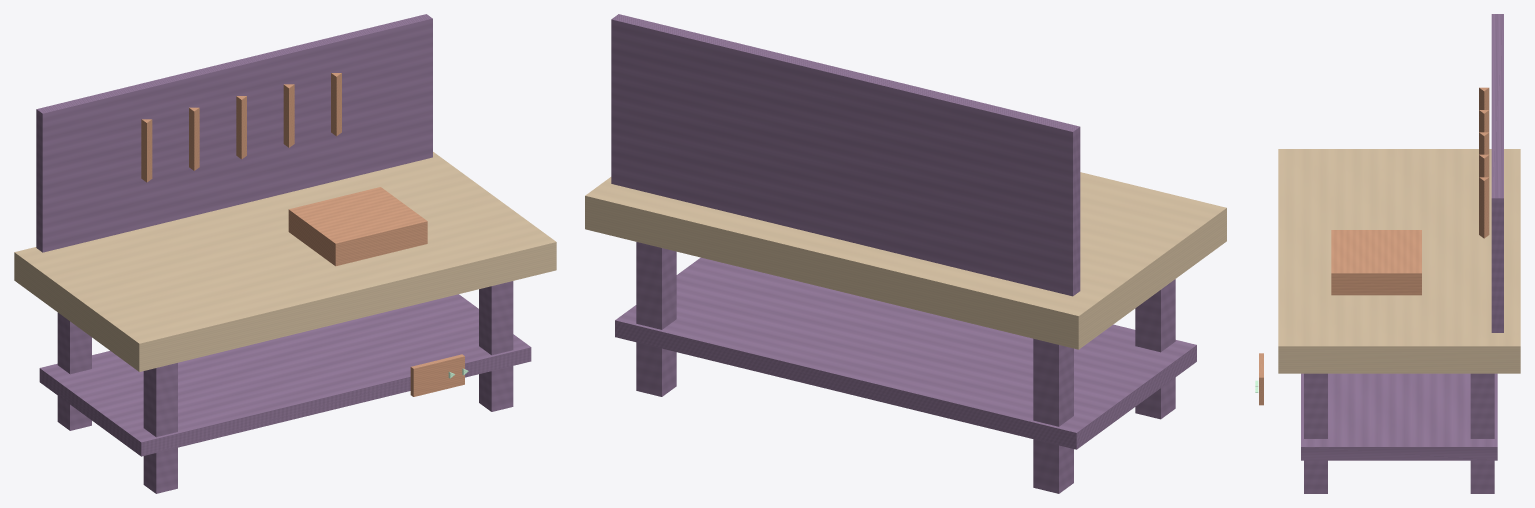
Rendered from atlas100-s087-a06.lod1.glb.
3 renders of one model, left to right at view 1: azimuth 30°, elevation 25°; view 2: azimuth 150°, elevation 25°; view 3: azimuth 270°, elevation 25°, orthographic. The views are drawn at different scales.
Visible parts, largest first — view 1: atlas100-s087-a06:part-004, atlas100-s087-a06:part-006, atlas100-s087-a06:part-005, atlas100-s087-a06:part-012, atlas100-s087-a06:part-003, atlas100-s087-a06:part-001, atlas100-s087-a06:part-000, atlas100-s087-a06:part-013, atlas100-s087-a06:part-010, atlas100-s087-a06:part-007, atlas100-s087-a06:part-008, atlas100-s087-a06:part-009 (+1 smaller); view 2: atlas100-s087-a06:part-006, atlas100-s087-a06:part-005, atlas100-s087-a06:part-004, atlas100-s087-a06:part-000, atlas100-s087-a06:part-002, atlas100-s087-a06:part-001; view 3: atlas100-s087-a06:part-004, atlas100-s087-a06:part-005, atlas100-s087-a06:part-012, atlas100-s087-a06:part-006, atlas100-s087-a06:part-002, atlas100-s087-a06:part-003, atlas100-s087-a06:part-011.
Part boxes in pixels (left/top/right/bottom): atlas100-s087-a06:part-004: left=14, top=152, right=556, bottom=371; atlas100-s087-a06:part-006: left=36, top=14, right=432, bottom=252; atlas100-s087-a06:part-005: left=39, top=294, right=531, bottom=456; atlas100-s087-a06:part-012: left=288, top=187, right=427, bottom=266; atlas100-s087-a06:part-003: left=479, top=281, right=513, bottom=411; atlas100-s087-a06:part-001: left=143, top=363, right=177, bottom=493; atlas100-s087-a06:part-000: left=57, top=312, right=91, bottom=430; atlas100-s087-a06:part-013: left=410, top=354, right=464, bottom=396; atlas100-s087-a06:part-010: left=283, top=84, right=294, bottom=147; atlas100-s087-a06:part-007: left=141, top=119, right=152, bottom=182; atlas100-s087-a06:part-008: left=189, top=107, right=199, bottom=170; atlas100-s087-a06:part-009: left=236, top=96, right=246, bottom=159; atlas100-s087-a06:part-006: left=611, top=14, right=1080, bottom=296; atlas100-s087-a06:part-005: left=615, top=257, right=1196, bottom=449; atlas100-s087-a06:part-004: left=585, top=172, right=1226, bottom=349; atlas100-s087-a06:part-000: left=1033, top=338, right=1073, bottom=493; atlas100-s087-a06:part-002: left=636, top=242, right=676, bottom=396; atlas100-s087-a06:part-001: left=1135, top=279, right=1175, bottom=419; atlas100-s087-a06:part-004: left=1278, top=149, right=1520, bottom=373; atlas100-s087-a06:part-005: left=1301, top=373, right=1497, bottom=460; atlas100-s087-a06:part-012: left=1331, top=230, right=1421, bottom=295; atlas100-s087-a06:part-006: left=1491, top=14, right=1503, bottom=332; atlas100-s087-a06:part-002: left=1470, top=373, right=1494, bottom=493; atlas100-s087-a06:part-003: left=1304, top=373, right=1327, bottom=493; atlas100-s087-a06:part-011: left=1479, top=177, right=1489, bottom=238.
Bounding box in the file's own units: 3.08 × 2.21 × 1.75.
4 materials, 4 textured.
